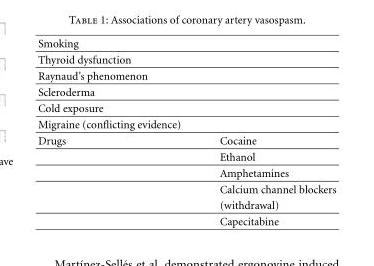table: (37, 37, 335, 227)
table column: (37, 37, 199, 227), (199, 37, 335, 227)
table column header: (37, 37, 335, 51)
table projected row header: (37, 99, 335, 116), (37, 51, 335, 67), (37, 67, 335, 83), (37, 83, 335, 99), (37, 116, 335, 132)
table row: (37, 99, 335, 116), (37, 51, 335, 67), (37, 67, 335, 83), (37, 83, 335, 99), (37, 116, 335, 132), (37, 132, 335, 148), (37, 148, 335, 164), (37, 164, 335, 180), (37, 180, 335, 196), (37, 196, 335, 212), (37, 212, 335, 227), (37, 37, 335, 51)
table spanning cell: (37, 132, 199, 227)
